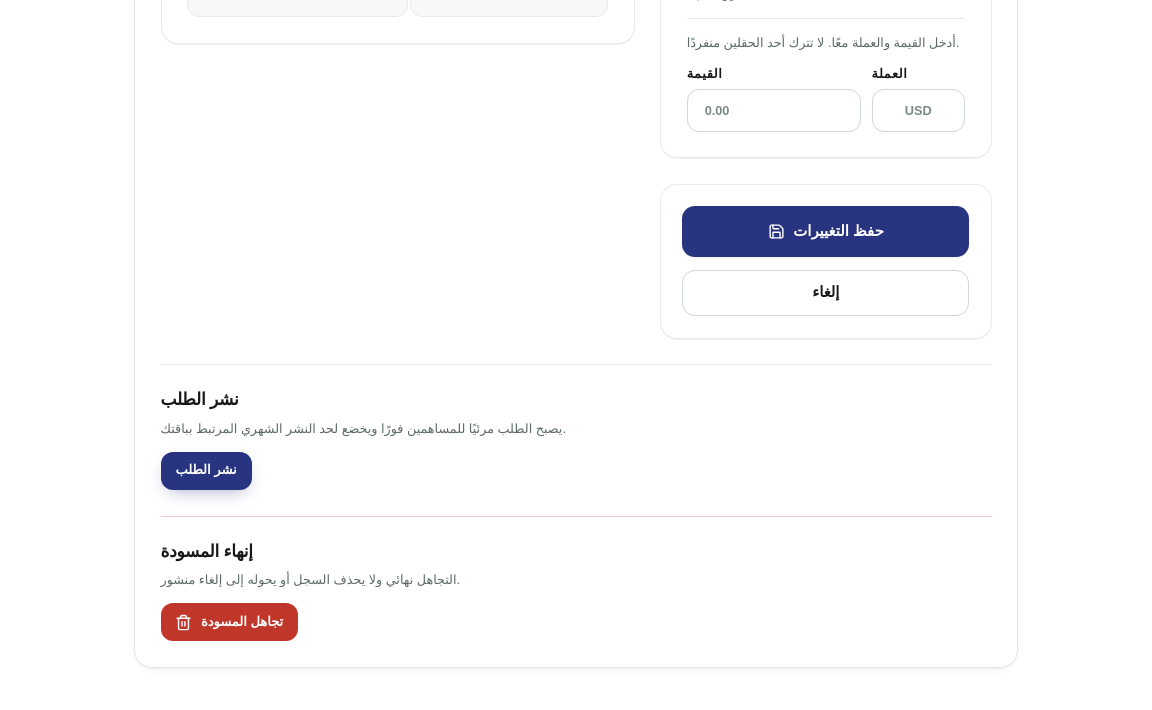
Contribution Request owner lifecycle interactions › keeps keyboard focus meaningful through a successful publish transition
(page scrolled)
Click the button "نشر الطلب": [206, 471] box [160,452,252,490]
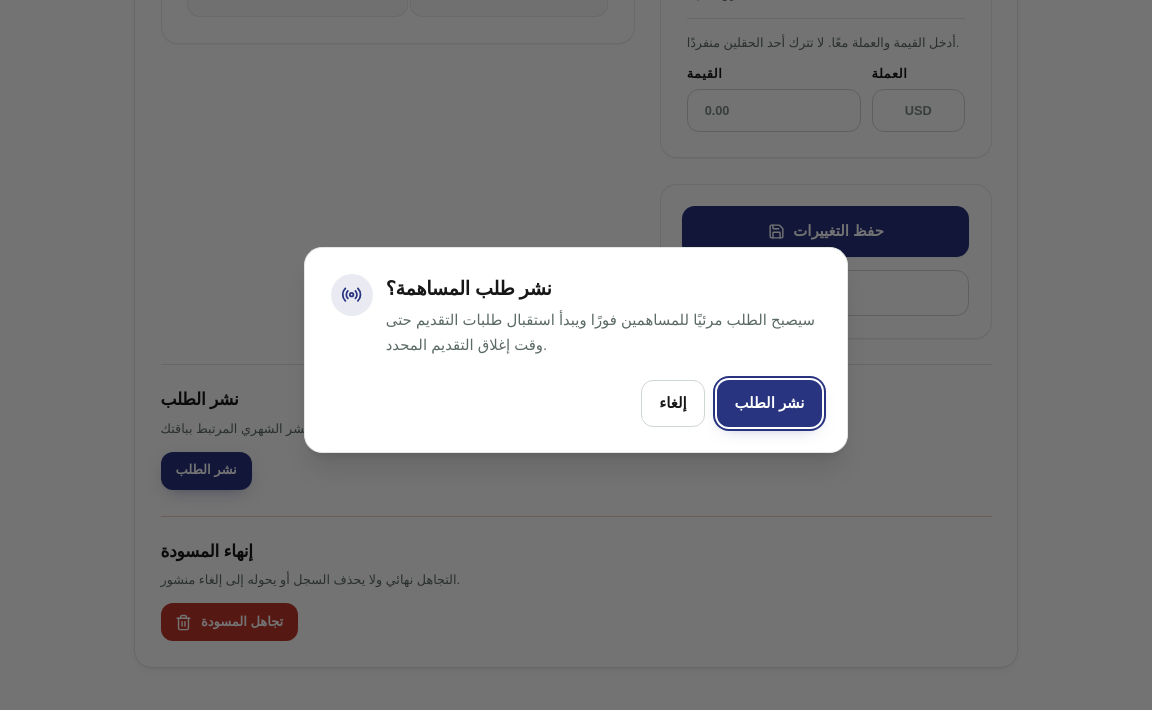
Click the button "نشر الطلب": [769, 403] box [717,380,822,427]
(page scrolled)
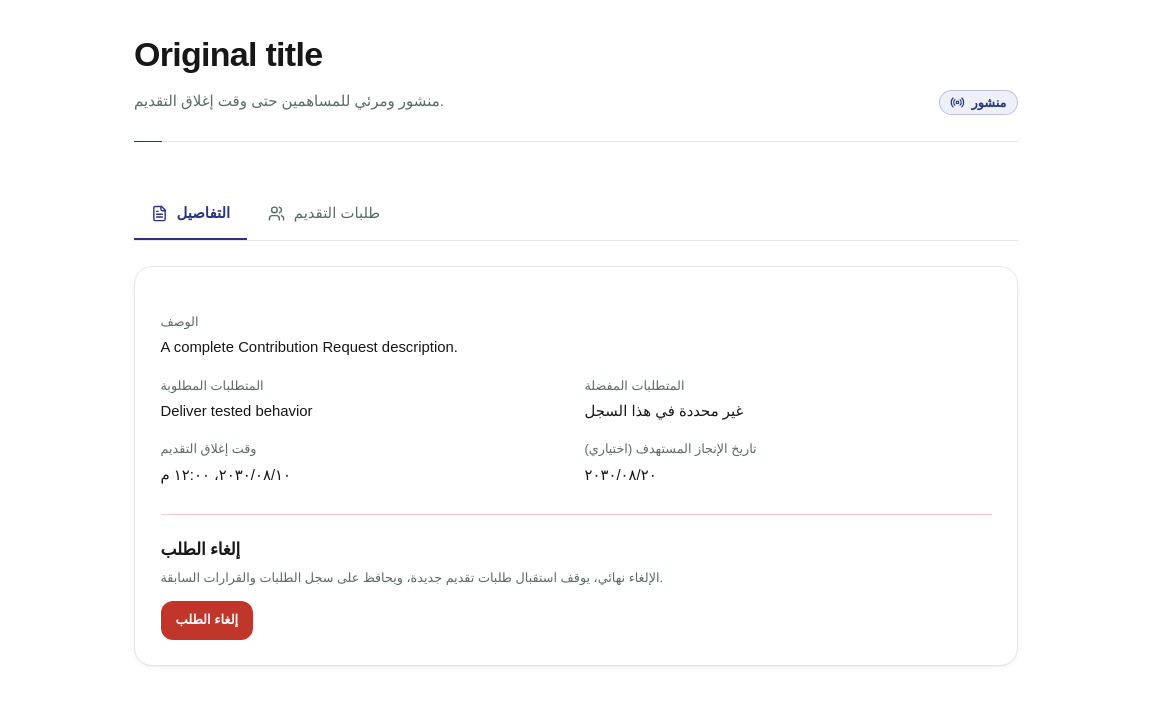
Expected: the dialog is gone
Expected: the element with id "contribution-request-lifecycle-focus" shows "منشور ومرئي للمساهمين", [134,92,444,109]
